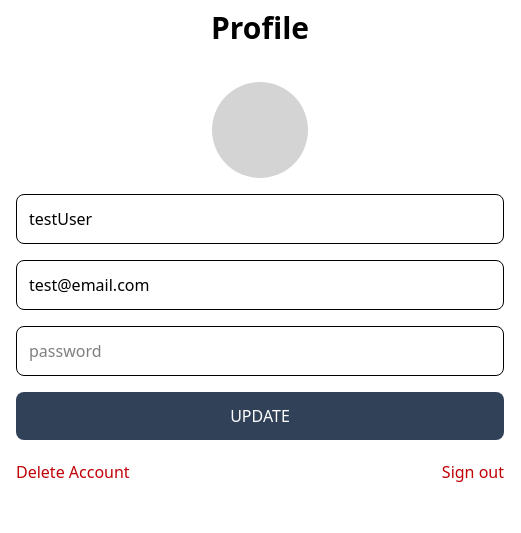
Profile Page › should Signout fail and display Error message
Click Signout button
Click the button "Sign out" at (473, 472), box x1=442 y1=460 x2=504 y2=484
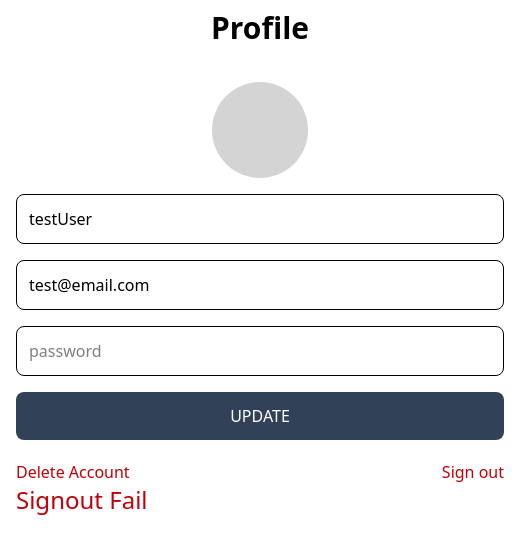
Check: the button "Update" is shown, box x1=16 y1=392 x2=504 y2=440
Check: the text "Signout Fail" is shown, box x1=16 y1=483 x2=148 y2=516
